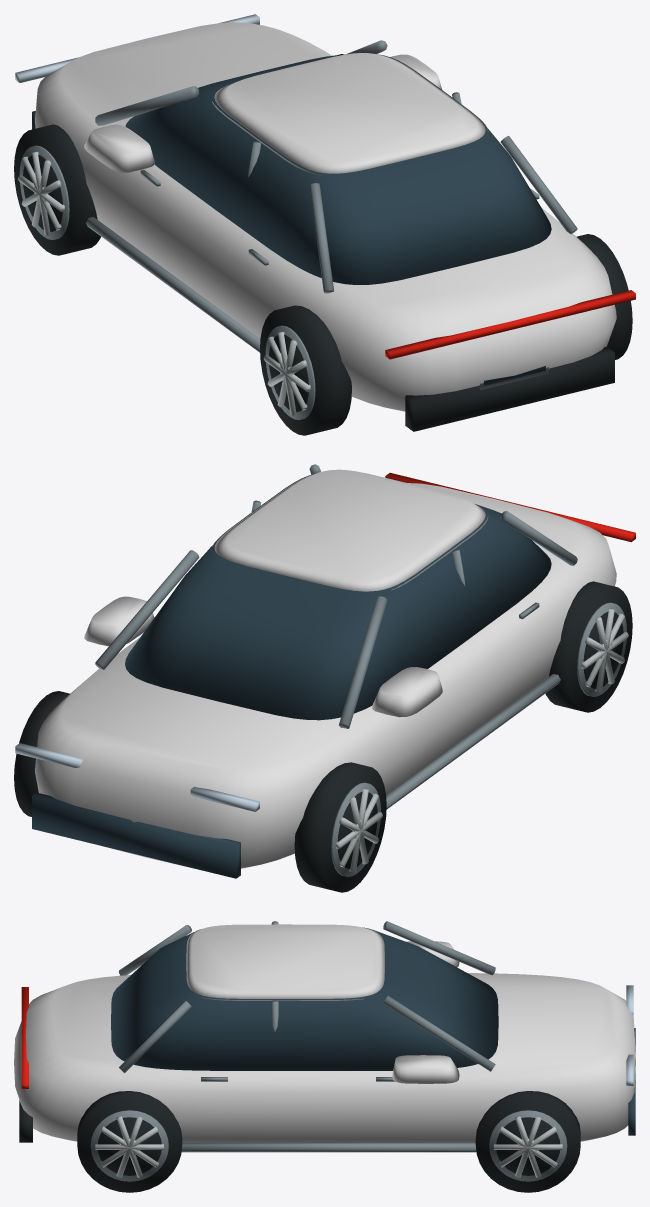
File: car_plain.glb
3 renders of one model, top to bottom at view 1: azimuth 30°, elevation 25°; view 2: azimuth 150°, elevation 25°; view 3: azimuth 270°, elevation 25°, orthographic. The views are drawn at different scales.
Visible parts, largest first — view 1: car_plain; view 2: car_plain; view 3: car_plain.
Part boxes in pixels (x1,y1,x2,y2): car_plain: (14,14,635,435); car_plain: (14,464,635,892); car_plain: (14,921,635,1192).
Bounding box in the file's own units: 2.3 × 1.43 × 4.62.
